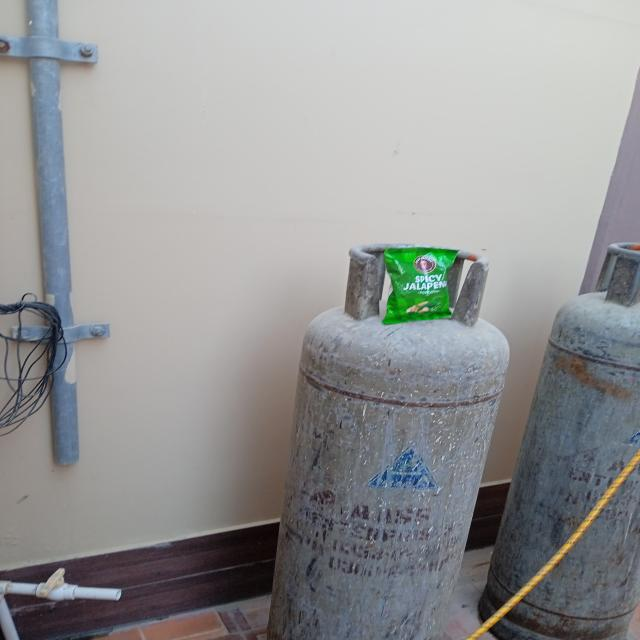Plastic: (375, 242, 468, 326)
